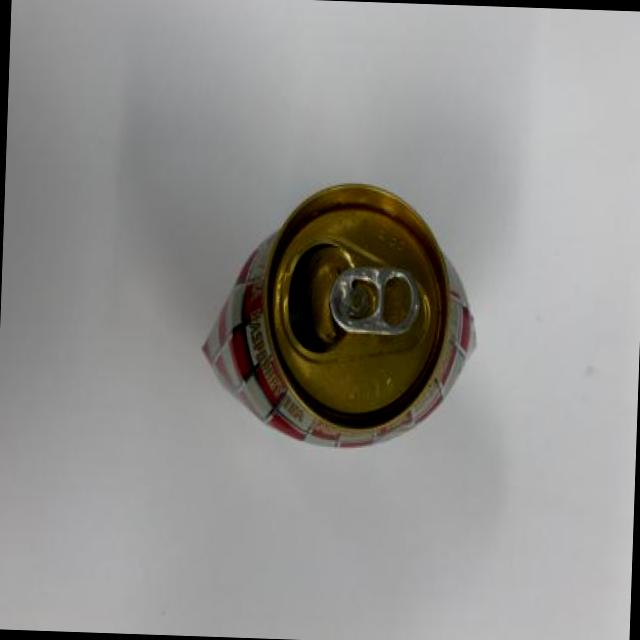kim_loai: (201, 185, 476, 446)
